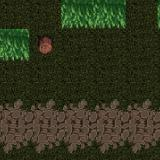Obstacle: (29, 30, 62, 60)
Slow: (61, 0, 126, 29), (0, 30, 29, 60)
